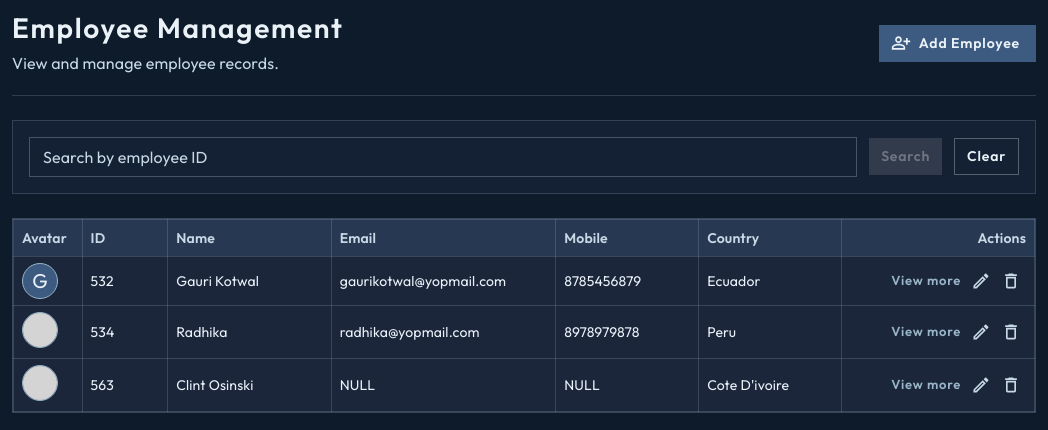
it: EmployeeManagementContainer search › shows an error when employee search fails
The width and height of the screenshot is (1048, 430).
In the field labelled "Search by employee ID": (443, 157) [29,137,857,177], type "532"
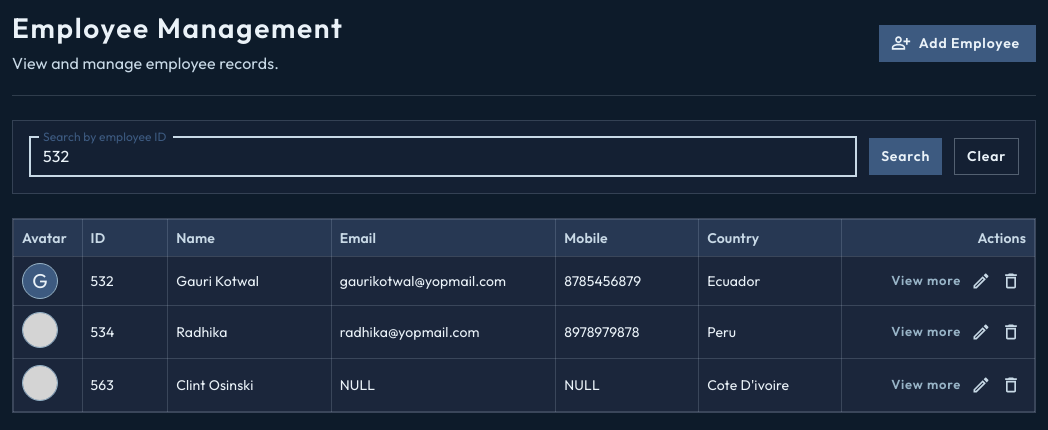
Click the button "Search": click(906, 157) [869,138,942,175]
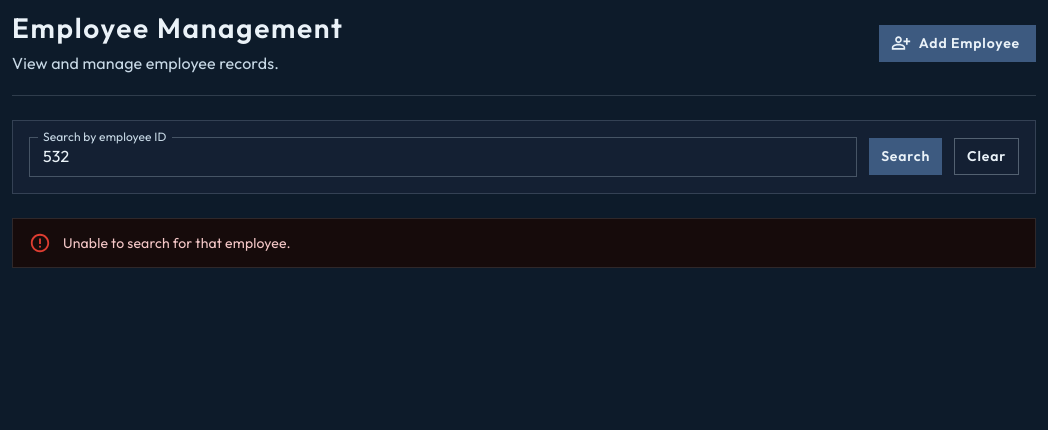
Expected: the message "Unable to search for that employee." is shown, [12,218,1036,268]
Expected: the text "Unable to search for that employee." is shown, [63,234,291,252]
